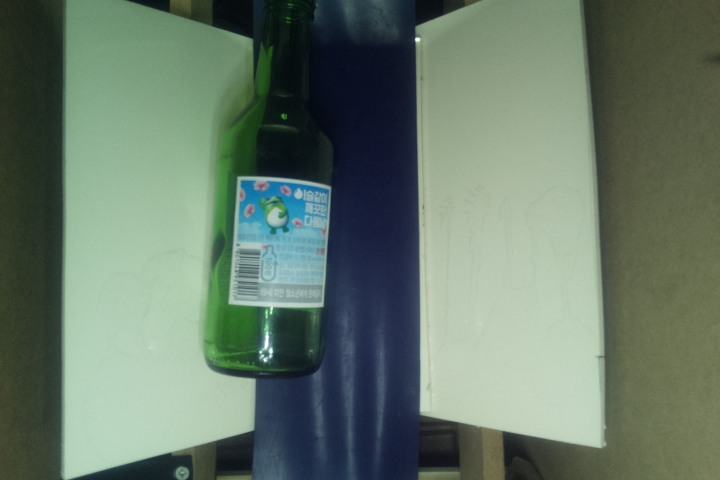soju: (202, 1, 334, 378)
